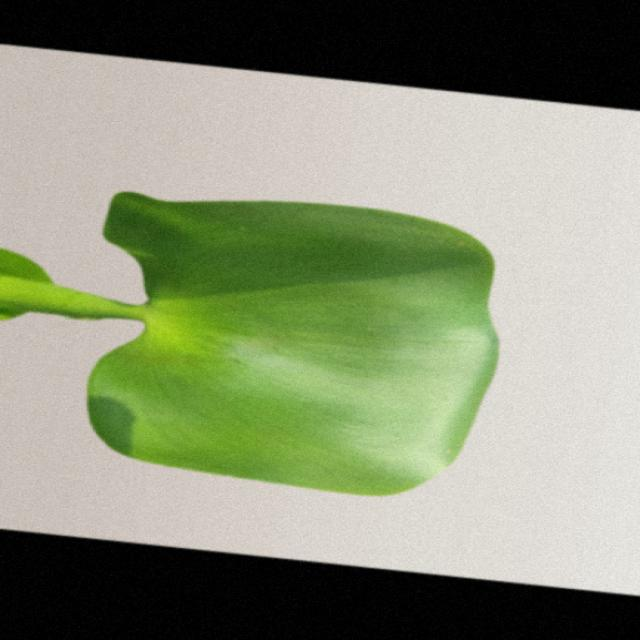daun sehat: (0, 193, 498, 495)
